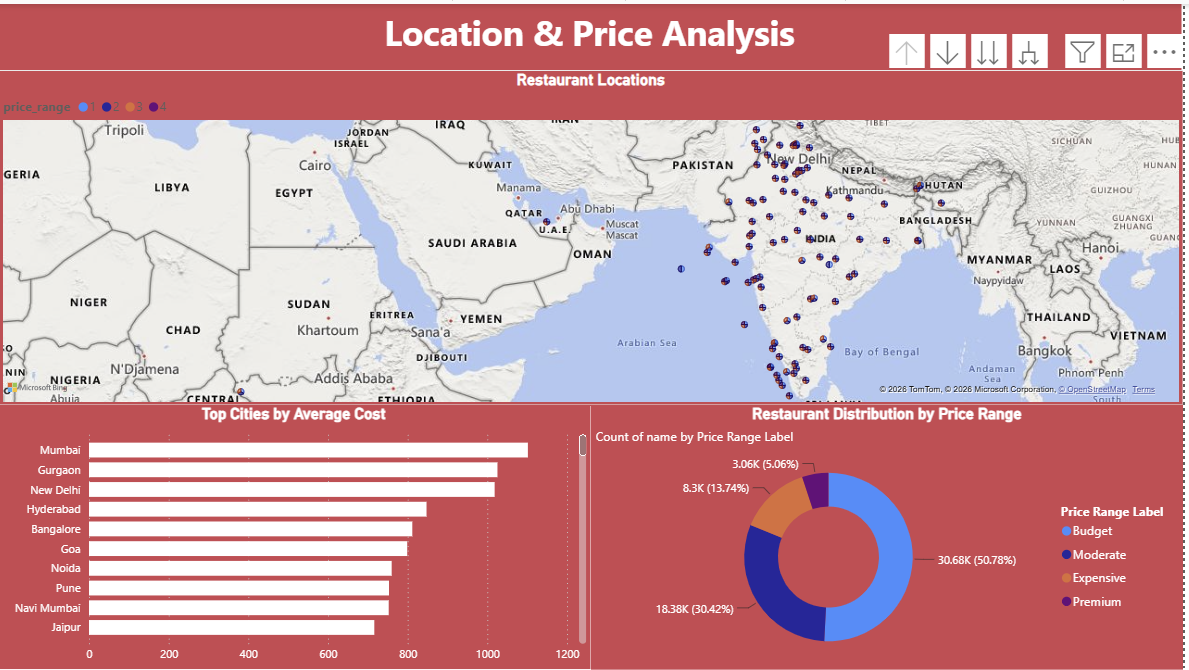

Layout of this report page (visuals, bound fields, positions):
{"tool":"powerbi","page":{"name":"Page 3","canvas":[1280,720],"ordinal":2},"visuals":[{"type":"textbox","box":[0,0,1278.8,71.2],"z":0},{"type":"map","title":"Restaurant Locations","fields":{"Y":["Avg(zomato_cleaned.latitude)"],"X":["Avg(zomato_cleaned.longitude)"],"Series":["zomato_cleaned.price_range"],"Category":["zomato_cleaned.city","zomato_cleaned.Price Range Label"]},"box":[1.6,70.5,1278.7,362.3],"z":1000},{"type":"clusteredBarChart","title":"Top Cities by Average Cost","fields":{"Category":["zomato_cleaned.city"],"Y":["Avg(zomato_cleaned.average_cost_for_two)"]},"box":[0,432.8,641,286.9],"z":2000},{"type":"donutChart","title":"Restaurant Distribution by Price Range","fields":{"Category":["zomato_cleaned.Price Range Label"],"Y":["CountNonNull(zomato_cleaned.name)"]},"box":[641,433,639,287],"z":2001}]}

Visuals, with their boxes in screenshot pixels (x1, y1, x2, y2), scaled from the page's 1280x720 canvas onto the 1189x670 screenshot:
textbox: <box>0,0,1188,66</box>
"Restaurant Locations" map: <box>1,66,1188,403</box>
"Top Cities by Average Cost" clusteredBarChart: <box>0,403,595,669</box>
"Restaurant Distribution by Price Range" donutChart: <box>595,403,1188,669</box>
